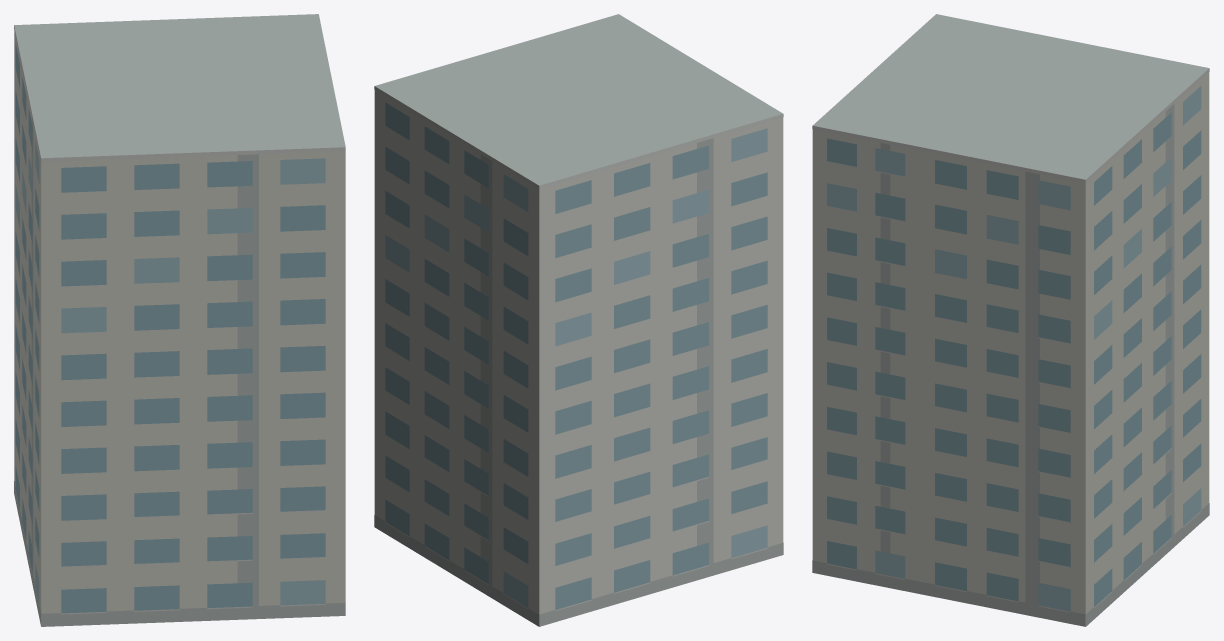
The model's file is residential-ed985a4c-3990-42ef-ad03-63b960882031.glb.
The picture shows the model from 3 angles, left to right: view 1: azimuth 30°, elevation 25°; view 2: azimuth 150°, elevation 25°; view 3: azimuth 270°, elevation 25°; orthographic projection. The views are drawn at different scales.
Visible parts, largest first — view 1: residential-ed985a4c-3990-42ef-ad03-63b960882031.tmp; view 2: residential-ed985a4c-3990-42ef-ad03-63b960882031.tmp; view 3: residential-ed985a4c-3990-42ef-ad03-63b960882031.tmp.
Boxes of the visible parts, bbox=[...] form: residential-ed985a4c-3990-42ef-ad03-63b960882031.tmp: bbox=[14, 14, 345, 626]; residential-ed985a4c-3990-42ef-ad03-63b960882031.tmp: bbox=[374, 14, 783, 626]; residential-ed985a4c-3990-42ef-ad03-63b960882031.tmp: bbox=[812, 14, 1209, 626].
Bounding box in the file's own units: 23.07 × 29 × 23.34.
